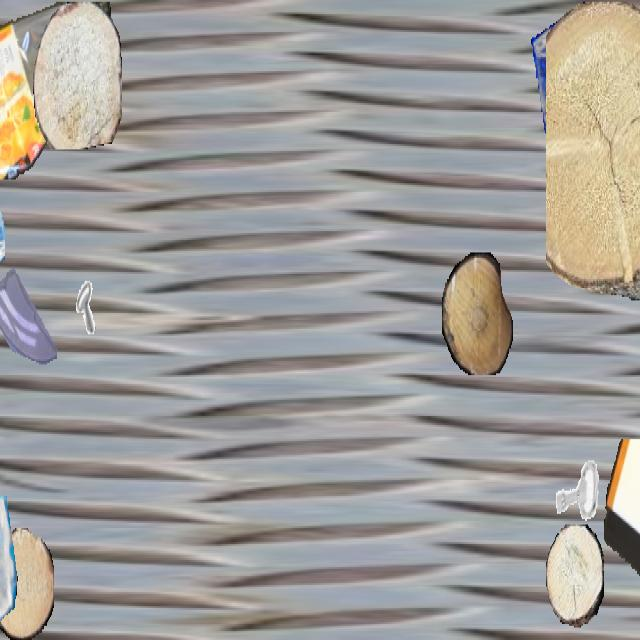glass: (531, 2, 623, 165), (0, 256, 57, 377), (0, 486, 17, 638), (0, 174, 4, 281)
metal: (550, 441, 606, 540), (603, 165, 640, 268), (51, 272, 97, 354)
plastic: (0, 2, 116, 180), (604, 439, 640, 638)
wood: (546, 2, 640, 300), (33, 2, 121, 148), (442, 252, 512, 374), (546, 524, 604, 628), (0, 528, 54, 638)
